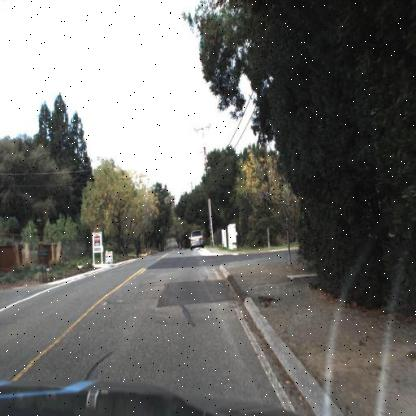car: (187, 226, 205, 252)
